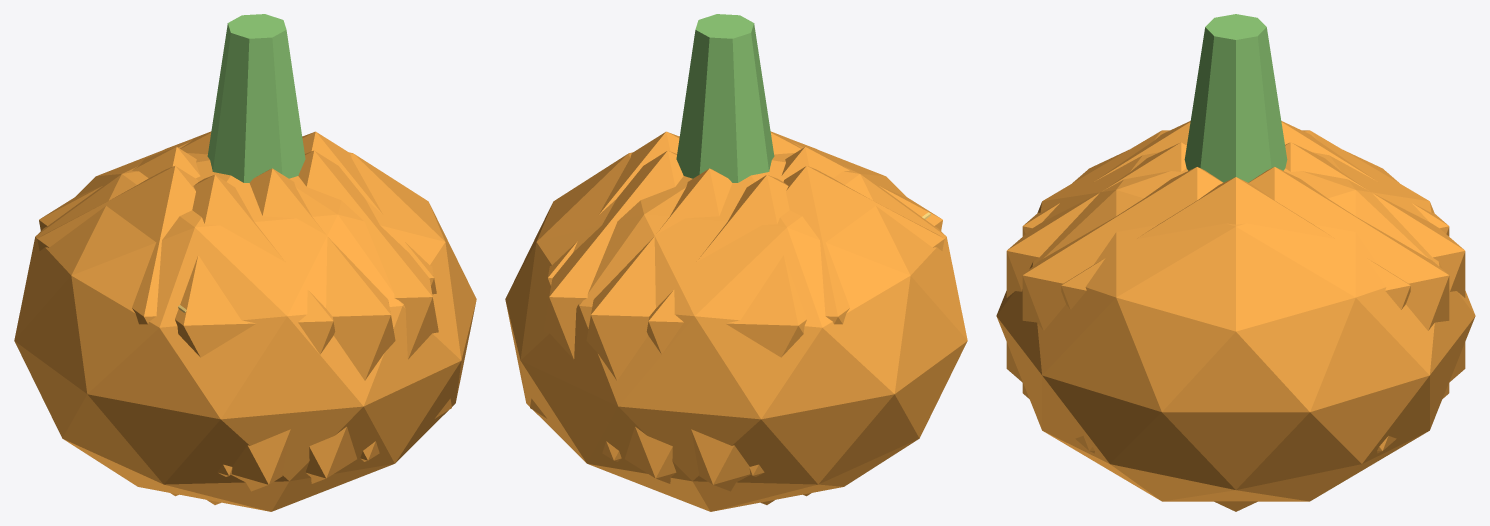
The model's file is pumpkin.glb.
3 views of the same model, side by side, from view 1: azimuth 30°, elevation 25°; view 2: azimuth 150°, elevation 25°; view 3: azimuth 270°, elevation 25° (orthographic).
Parts seen in each view (by area): view 1: pumpkin center mass, green curved stem, faceted pumpkin lobe.005, faceted pumpkin lobe.006, faceted pumpkin lobe.007, faceted pumpkin lobe.004, faceted pumpkin lobe, faceted pumpkin lobe.003; view 2: pumpkin center mass, green curved stem, faceted pumpkin lobe.003, faceted pumpkin lobe.002, faceted pumpkin lobe.001, faceted pumpkin lobe.004, faceted pumpkin lobe, faceted pumpkin lobe.005; view 3: pumpkin center mass, green curved stem, faceted pumpkin lobe.001, faceted pumpkin lobe.007, faceted pumpkin lobe, faceted pumpkin lobe.002, faceted pumpkin lobe.006, faceted pumpkin lobe.003, faceted pumpkin lobe.005.
Part boxes in pixels (x1,y1,x2,y2): pumpkin center mass: (14,131,476,511); green curved stem: (207,14,305,182); faceted pumpkin lobe.005: (175,175,335,504); faceted pumpkin lobe.006: (249,168,395,483); faceted pumpkin lobe.007: (298,150,451,461); faceted pumpkin lobe.004: (37,166,232,496); faceted pumpkin lobe: (302,131,436,294); faceted pumpkin lobe.003: (39,147,200,230); pumpkin center mass: (505,131,967,511); green curved stem: (676,14,774,182); faceted pumpkin lobe.003: (646,175,806,504); faceted pumpkin lobe.002: (586,168,732,483); faceted pumpkin lobe.001: (530,150,683,461); faceted pumpkin lobe.004: (749,166,944,496); faceted pumpkin lobe: (545,131,679,294); faceted pumpkin lobe.005: (781,147,942,230); pumpkin center mass: (996,130,1475,501); green curved stem: (1184,14,1287,182); faceted pumpkin lobe.001: (1248,167,1449,453); faceted pumpkin lobe.007: (1022,167,1223,453); faceted pumpkin lobe: (1061,177,1410,511); faceted pumpkin lobe.002: (1285,142,1465,382); faceted pumpkin lobe.006: (1006,142,1186,382); faceted pumpkin lobe.003: (1281,121,1449,236); faceted pumpkin lobe.005: (1022,121,1190,236).
Bounding box in the file's own units: 0.6657 × 0.745 × 0.7.
